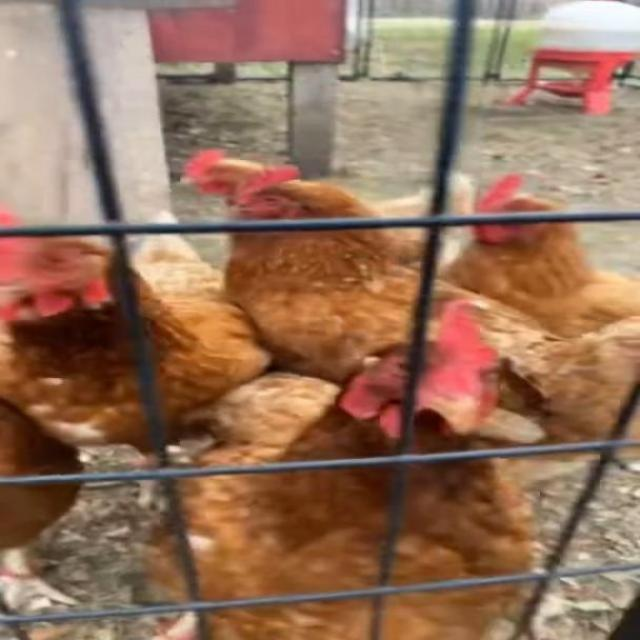Chicken: (152, 299, 528, 640), (0, 202, 271, 506), (222, 164, 560, 389), (440, 173, 640, 337), (178, 149, 468, 260), (0, 393, 88, 614)
